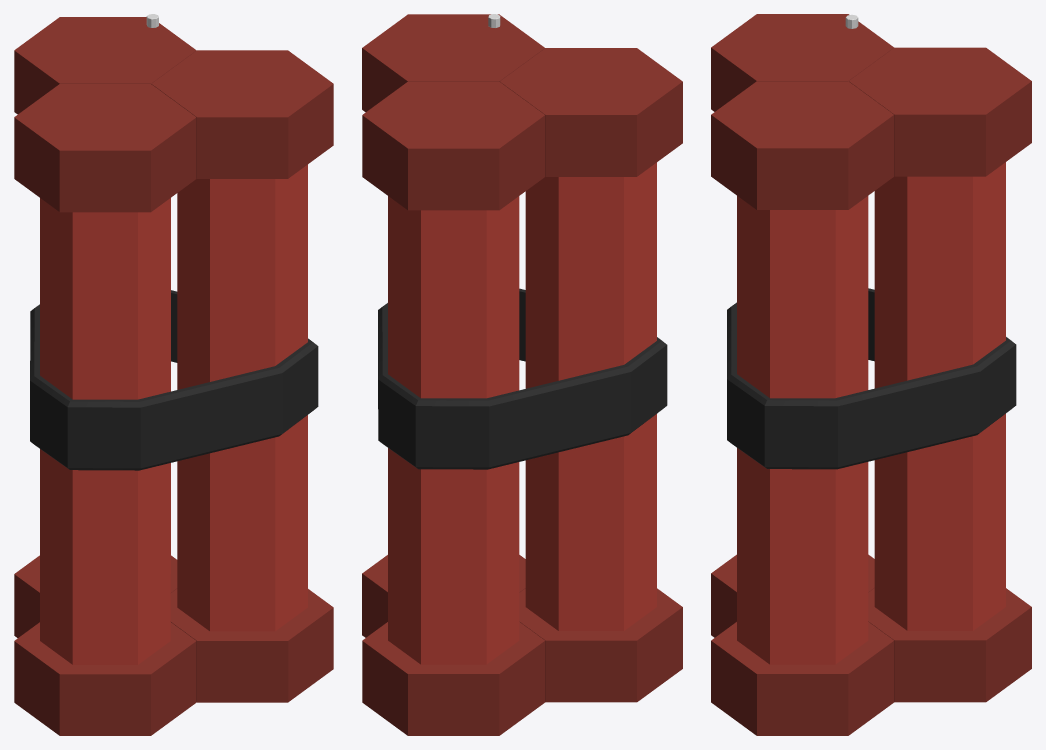
Rendered from TNT.fbx.
3 views of the same model, side by side, from view 1: azimuth 30°, elevation 25°; view 2: azimuth 150°, elevation 25°; view 3: azimuth 270°, elevation 25° (orthographic).
Visible parts, largest first — view 1: Circle.007, Circle.006, Circle.005, Circle.004; view 2: Circle.004, Circle.007, Circle.005, Circle.006; view 3: Circle.006, Circle.004, Circle.005, Circle.007.
Boxes of the visible parts, x1,y1,x2,y2 form: Circle.007: [14, 84, 196, 735]; Circle.006: [151, 50, 333, 702]; Circle.005: [30, 290, 318, 470]; Circle.004: [14, 17, 196, 637]; Circle.004: [362, 81, 545, 735]; Circle.007: [500, 48, 682, 702]; Circle.005: [378, 288, 667, 469]; Circle.006: [362, 14, 544, 637]; Circle.006: [711, 81, 894, 735]; Circle.004: [849, 47, 1031, 702]; Circle.005: [727, 288, 1016, 469]; Circle.007: [711, 14, 894, 637].
Size of the model in its own units: 63.43 by 144 by 64.06.
